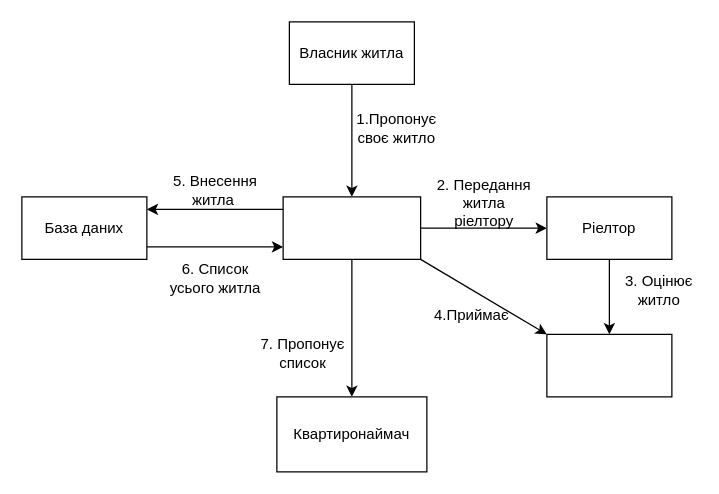
Image size: 719x494. Some labels were removed from this diagram. Here are the shapes that lost their labels. From the top down, the centre of each, then its label:
point (351, 227): Агентство
point (609, 365): Оцінка житла
